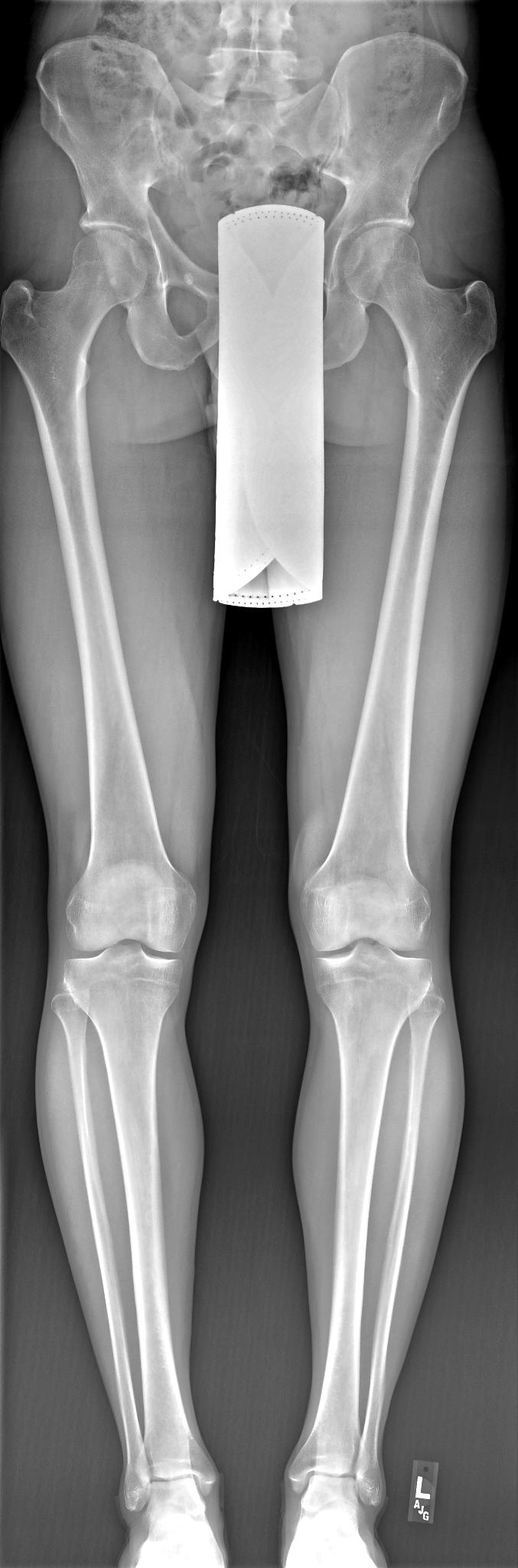Leg Fibula: (52, 990, 149, 1508), (357, 987, 444, 1503)
Leg Tibia: (65, 944, 217, 1485), (290, 941, 431, 1489)
femur: (303, 226, 496, 951), (1, 236, 196, 953)
